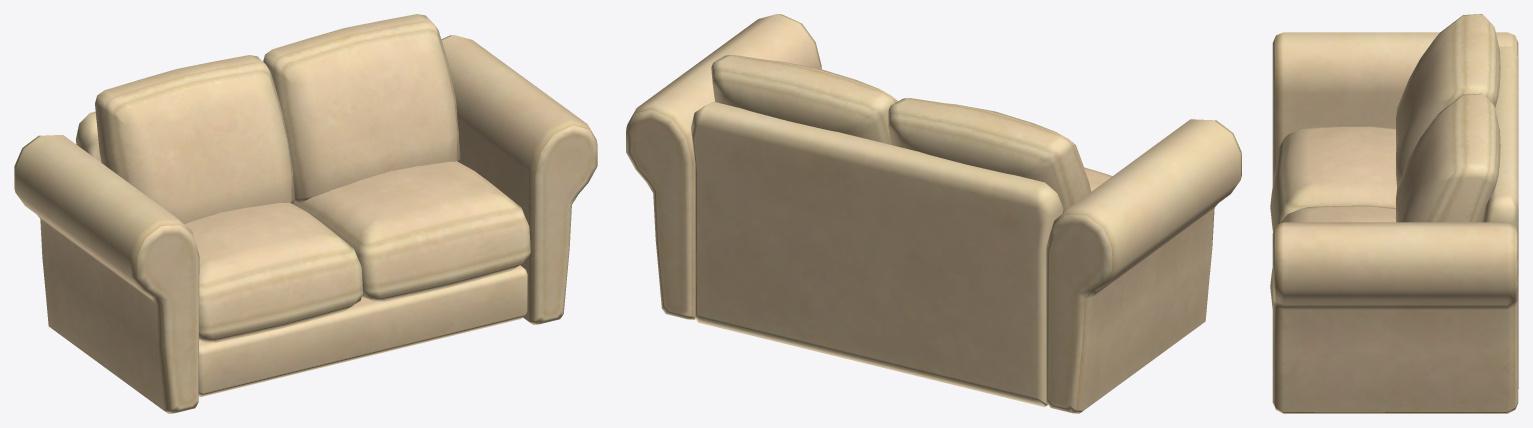
The model's file is lounge-sofa.glb.
3 renders of one model, left to right at view 1: azimuth 30°, elevation 25°; view 2: azimuth 150°, elevation 25°; view 3: azimuth 270°, elevation 25°, orthographic. The views are drawn at different scales.
Parts seen in each view (by area): view 1: Scene; view 2: Scene; view 3: Scene.
Part boxes in pixels (left/top/right/bottom): Scene: left=14, top=14, right=597, bottom=413; Scene: left=626, top=14, right=1241, bottom=413; Scene: left=1270, top=14, right=1518, bottom=413.
Size of the model in its own units: 18.32 by 9.12 by 8.7.
1 material, 1 textured.
